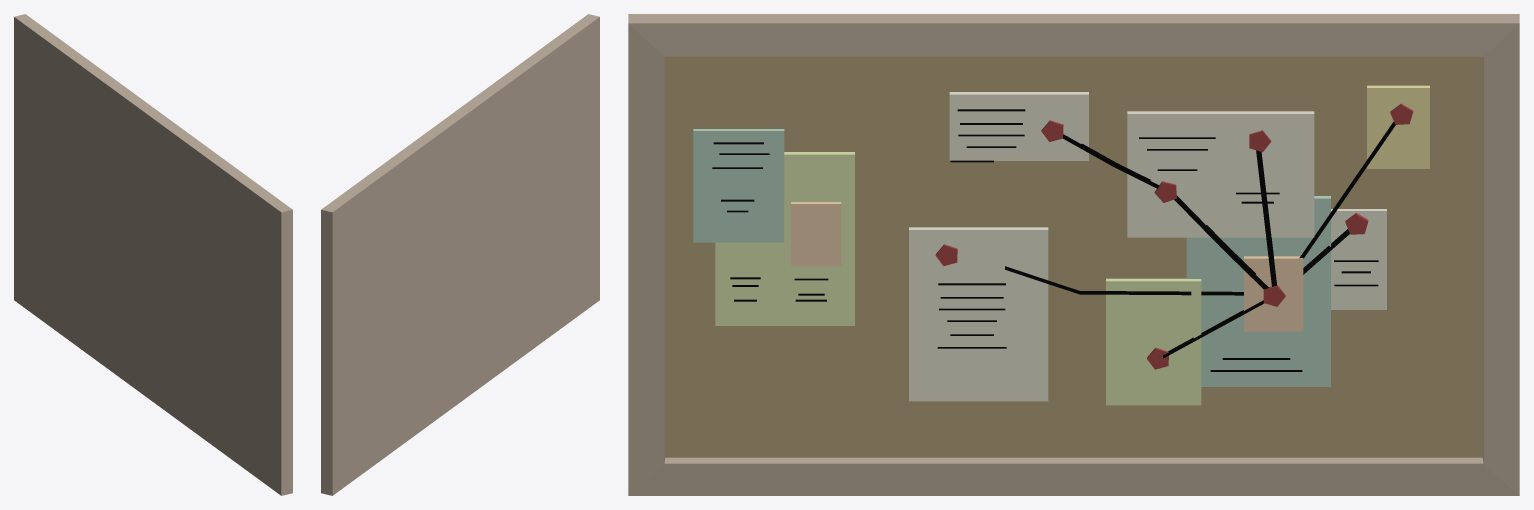
Rendered from board.obj.
3 renders of one model, left to right at view 1: azimuth 30°, elevation 25°; view 2: azimuth 150°, elevation 25°; view 3: azimuth 270°, elevation 25°, orthographic. The views are drawn at different scales.
Visible parts, largest first — view 1: Interior.001_Interior.006; view 2: Interior.001_Interior.006; view 3: Interior.001_Interior.006.
Boxes of the visible parts, bbox=[...] form: Interior.001_Interior.006: bbox=[14, 14, 292, 495]; Interior.001_Interior.006: bbox=[321, 14, 599, 495]; Interior.001_Interior.006: bbox=[628, 14, 1519, 495].
Size of the model in its own units: 0.1122 by 1.69 by 2.89.
Materials: 1 (1 with a texture image).
